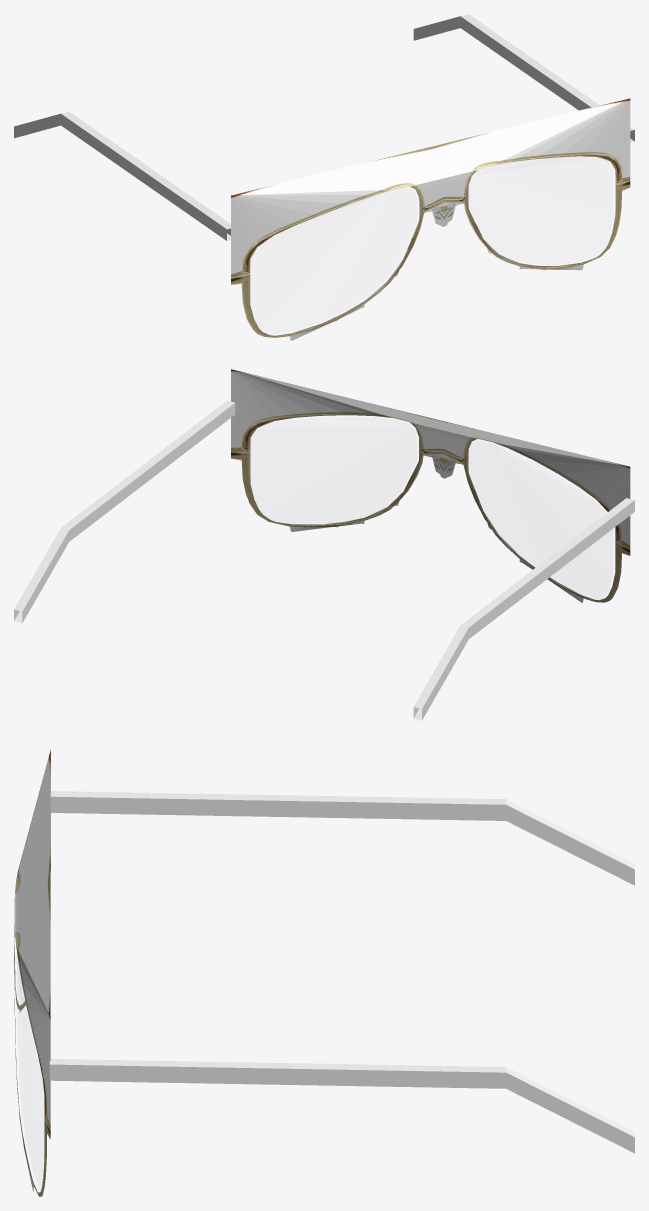
File: gothamstyle-stainless-37_gold.glb
3 views of the same model, one above another, from view 1: azimuth 30°, elevation 25°; view 2: azimuth 150°, elevation 25°; view 3: azimuth 270°, elevation 25° (orthographic). The views are drawn at different scales.
Parts seen in each view (by area): view 1: frame_front, temple_viewer_left, temple_viewer_right; view 2: frame_front, temple_viewer_left, temple_viewer_right; view 3: temple_viewer_right, temple_viewer_left, frame_front.
Boxes of the visible parts, <box> form: frame_front: <box>231,98,630,340</box>; temple_viewer_left: <box>14,111,232,240</box>; temple_viewer_right: <box>413,14,634,142</box>; frame_front: <box>231,369,630,602</box>; temple_viewer_left: <box>413,498,634,720</box>; temple_viewer_right: <box>14,400,235,623</box>; temple_viewer_right: <box>49,1059,634,1153</box>; temple_viewer_left: <box>50,791,634,885</box>; frame_front: <box>14,749,50,1196</box>.
Size of the model in its own units: 0.1448 by 0.0522 by 0.139.
Materials: 3 (2 with a texture image).
